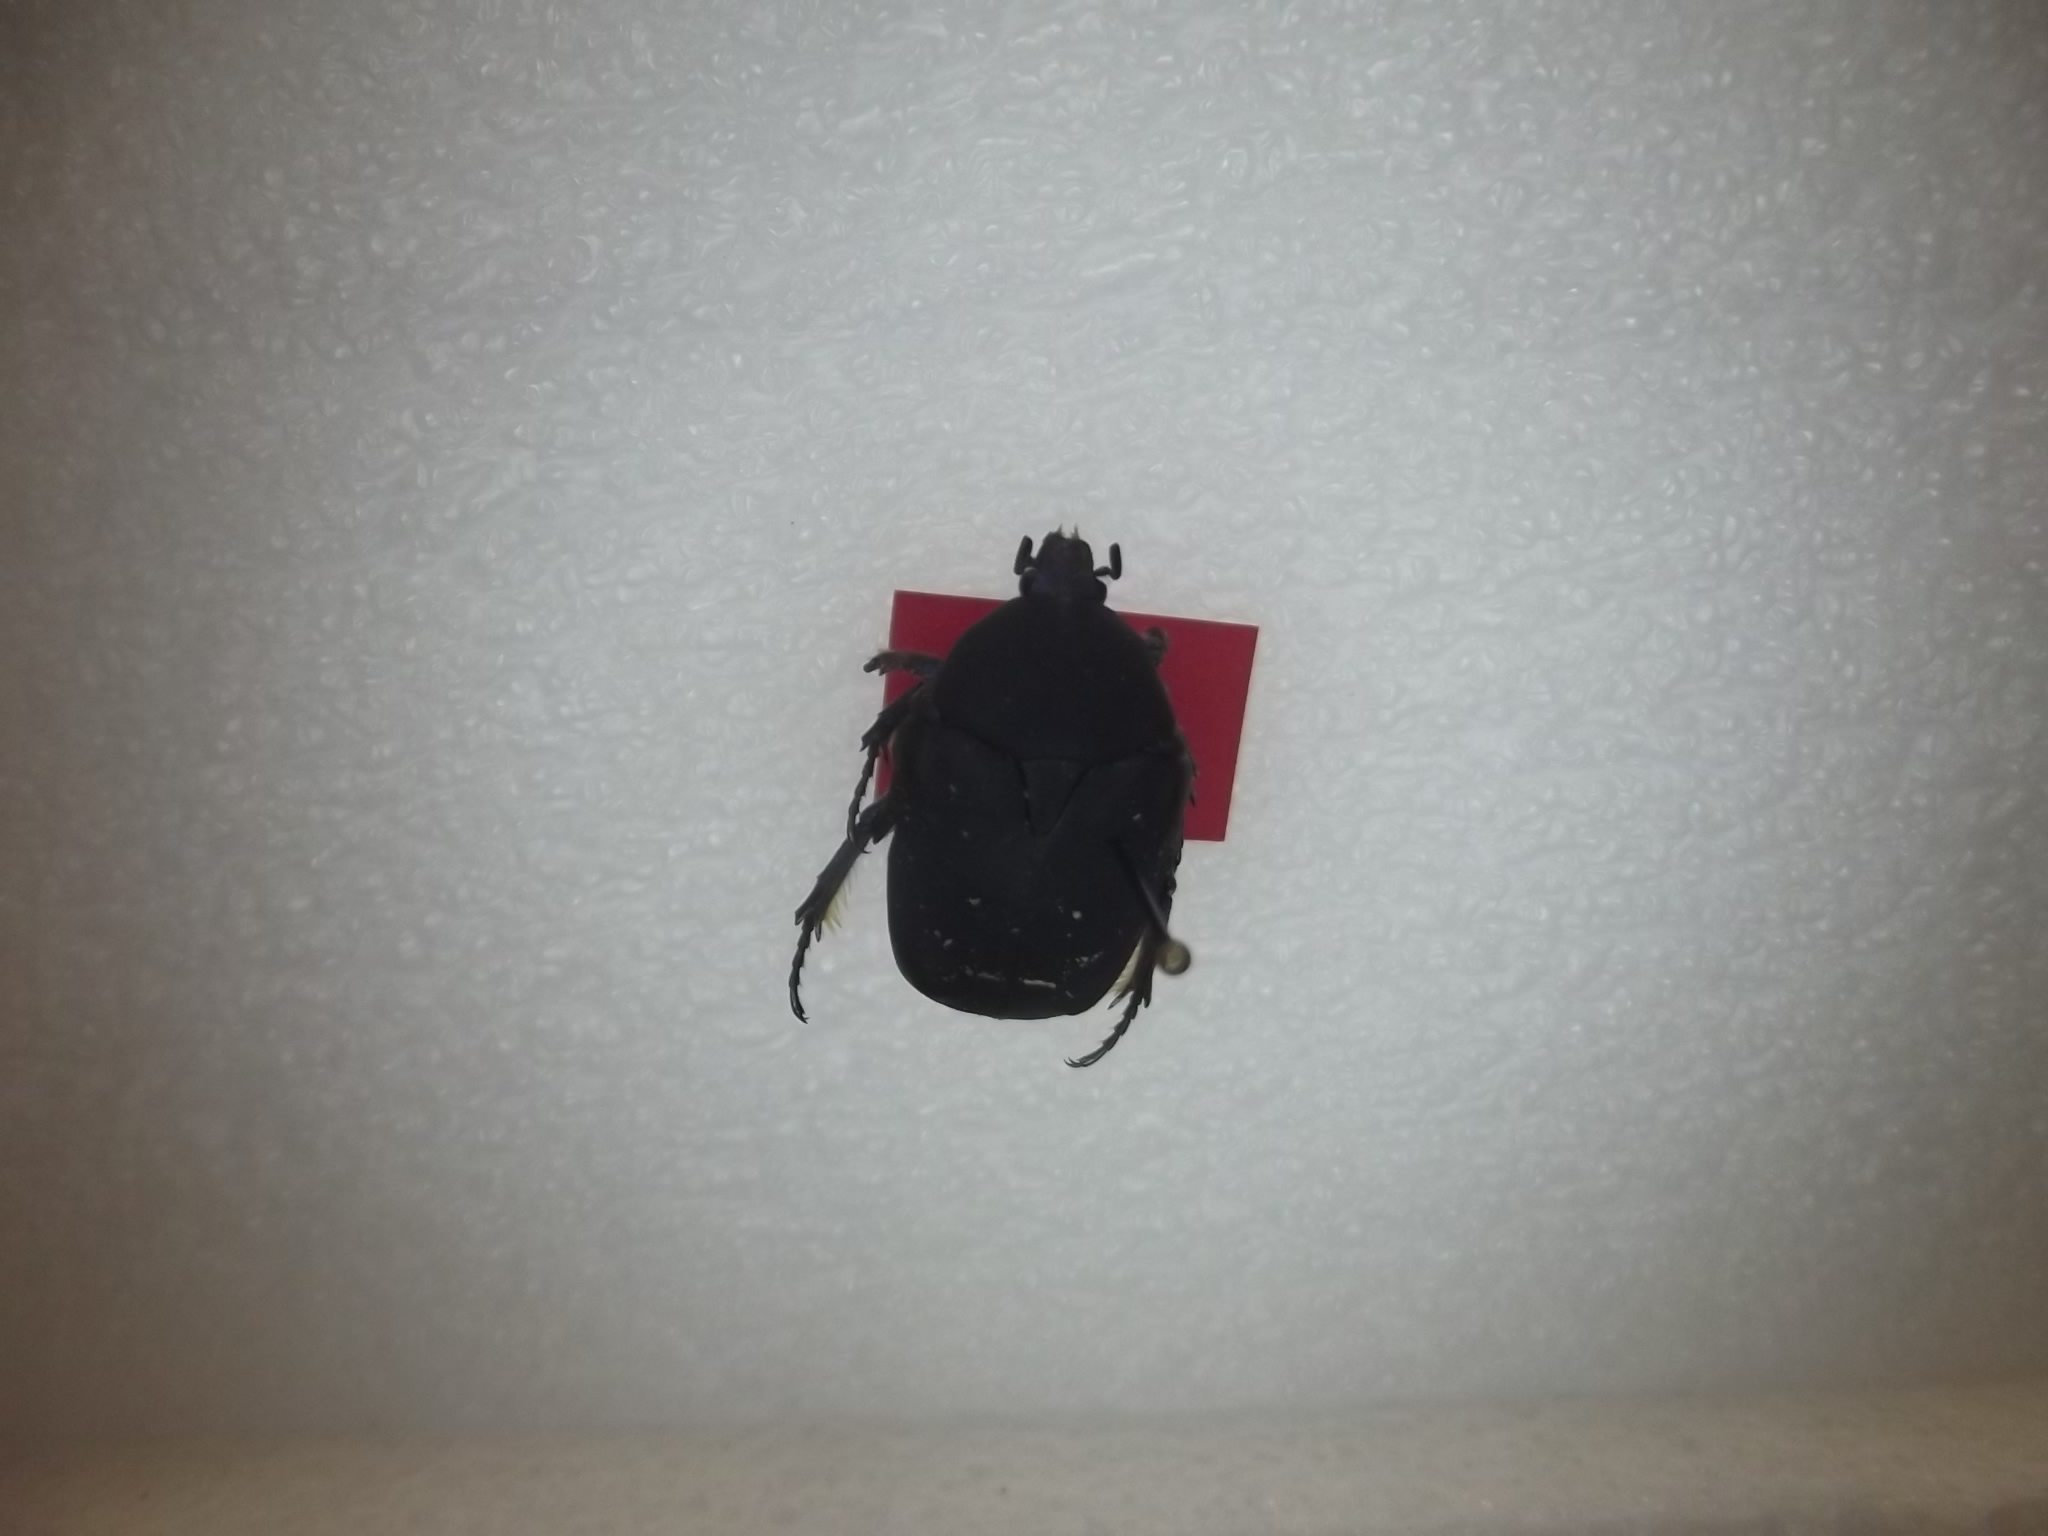Protaetia_ungarica_americana: (763, 484, 1205, 1079)
